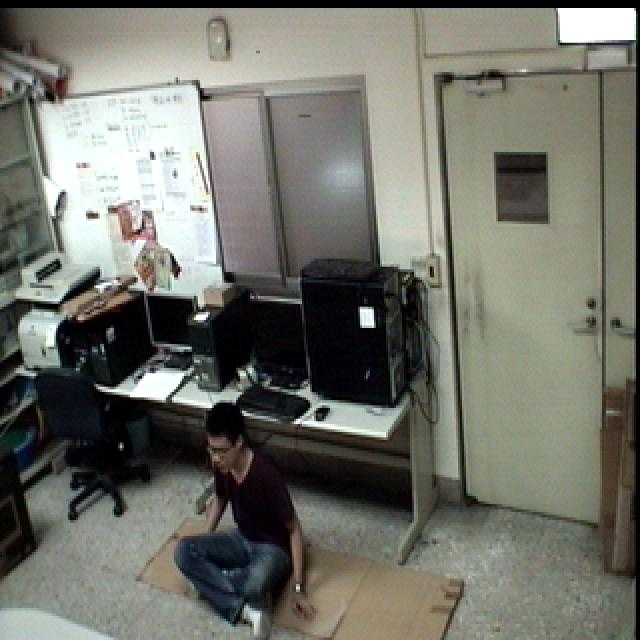sit: (167, 396, 319, 640)
